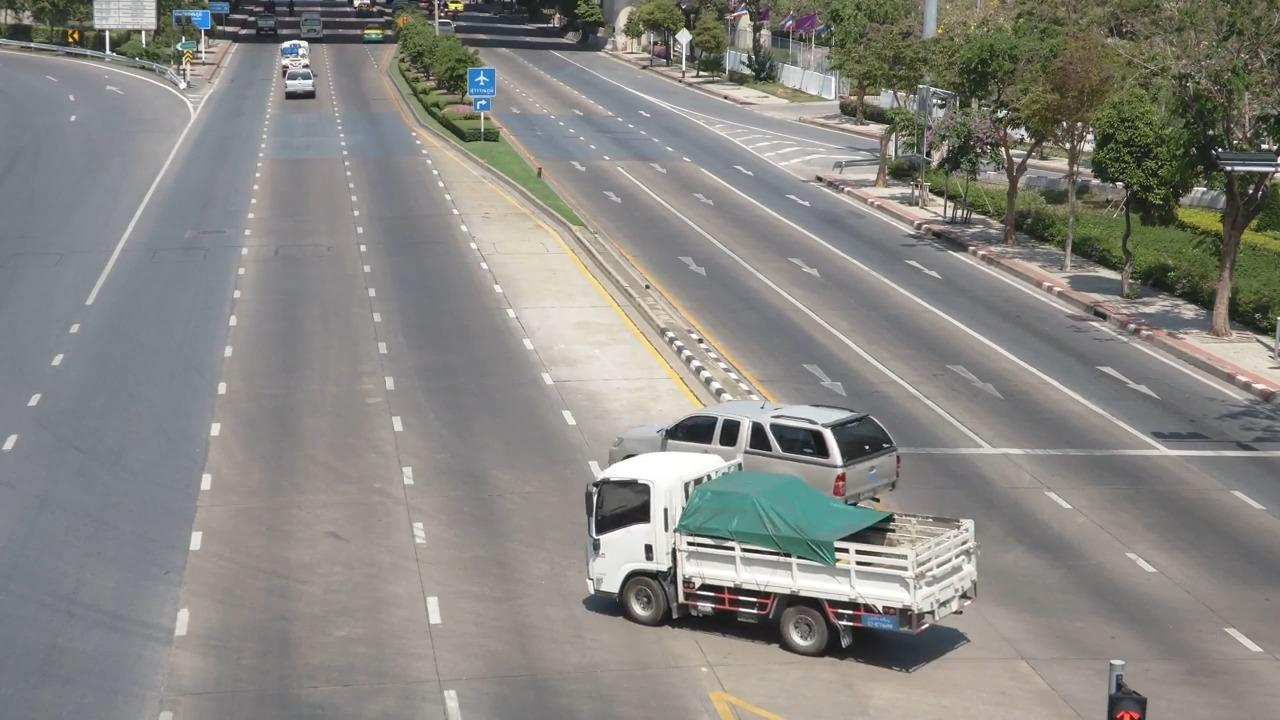CAR: (576, 441, 1001, 664), (621, 382, 905, 501), (272, 60, 331, 117), (271, 43, 324, 86), (240, 7, 286, 47), (297, 12, 337, 52), (353, 17, 393, 55)
